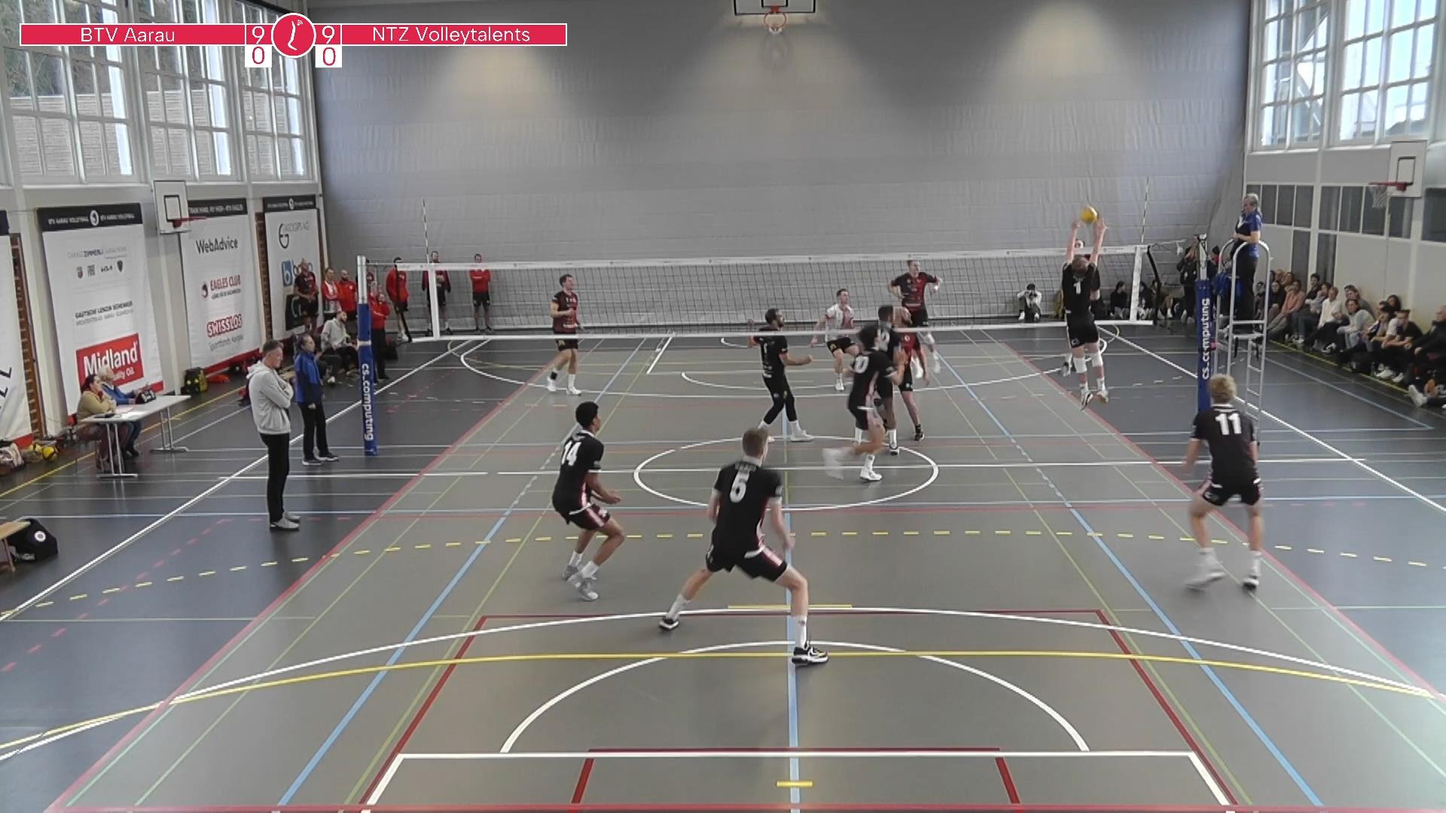attacco: (1057, 196, 1110, 267)
muro: (1053, 221, 1116, 408)
